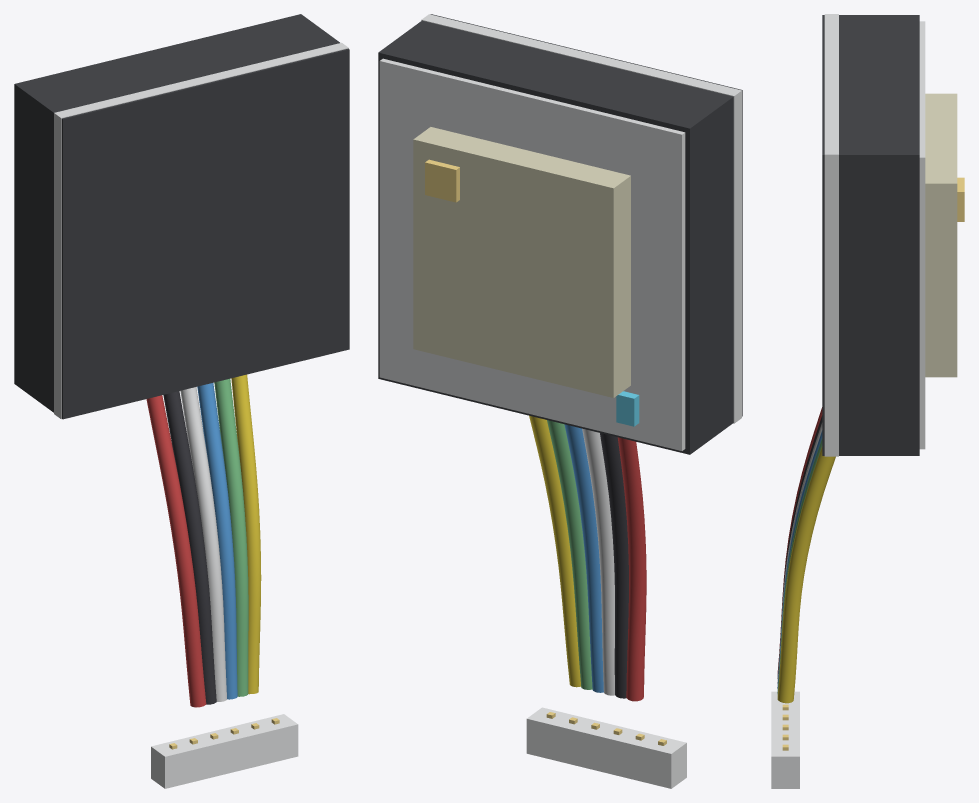
The model's file is gps.glb.
3 views of the same model, side by side, from view 1: azimuth 30°, elevation 25°; view 2: azimuth 150°, elevation 25°; view 3: azimuth 270°, elevation 25° (orthographic). The views are drawn at different scales.
Visible parts, largest first — view 1: ModuloGPS; view 2: ModuloGPS; view 3: ModuloGPS.
Part boxes in pixels (x1,y1,x2,y2): ModuloGPS: (14, 14, 349, 788); ModuloGPS: (378, 14, 742, 788); ModuloGPS: (771, 14, 964, 788).
Size of the model in its own units: 0.0281 by 0.0629 by 0.0163.
